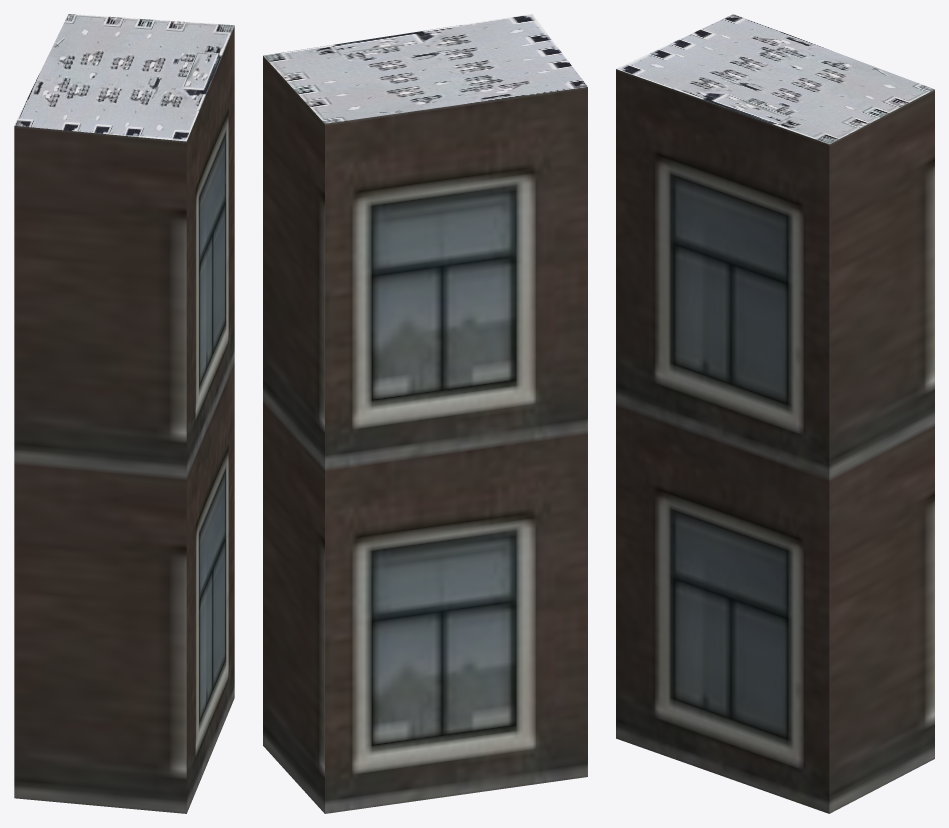
The model's file is ResTex__59.fbx.
The picture shows the model from 3 angles, left to right: view 1: azimuth 30°, elevation 25°; view 2: azimuth 150°, elevation 25°; view 3: azimuth 270°, elevation 25°; orthographic projection. The views are drawn at different scales.
Visible parts, largest first — view 1: CityEngineMaterial_16_m, CityEngineMaterial_15_m; view 2: CityEngineMaterial_16_m, CityEngineMaterial_15_m; view 3: CityEngineMaterial_16_m, CityEngineMaterial_15_m.
Boxes of the visible parts, x1,y1,x2,y2 form: CityEngineMaterial_16_m: (14,26,234,813); CityEngineMaterial_15_m: (14,14,234,141); CityEngineMaterial_16_m: (263,56,587,813); CityEngineMaterial_15_m: (263,14,587,123); CityEngineMaterial_16_m: (616,69,934,813); CityEngineMaterial_15_m: (616,14,934,144).
Bounding box in the file's own units: 2.51 × 6 × 2.59.
2 materials, 2 textured.
